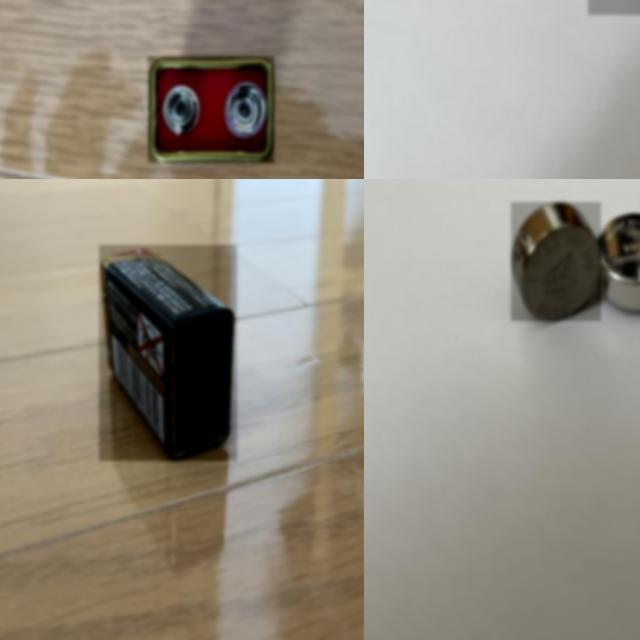9V: (99, 245, 236, 460), (148, 56, 274, 163)
